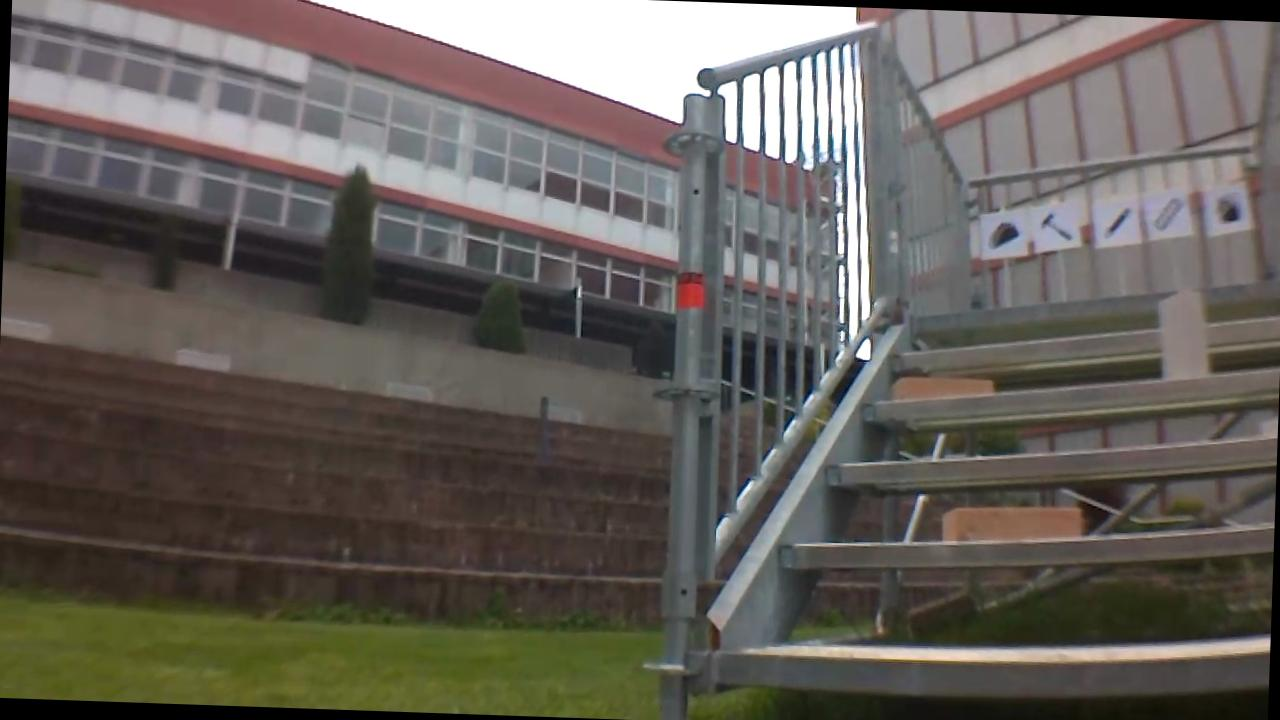brick: (939, 501, 1082, 543), (1157, 290, 1209, 380), (894, 374, 990, 401)
bucket: (1206, 188, 1247, 228)
edge: (720, 632, 1270, 703), (777, 510, 1274, 579), (828, 423, 1276, 499), (860, 353, 1280, 432), (897, 305, 1280, 378), (912, 266, 1280, 337)
hammer: (1036, 209, 1078, 244)
pencil: (1097, 202, 1133, 243)
ruler: (1150, 193, 1187, 232)
stairs: (642, 16, 1280, 720)
steps: (711, 250, 1280, 713)
taco: (986, 216, 1021, 252)
